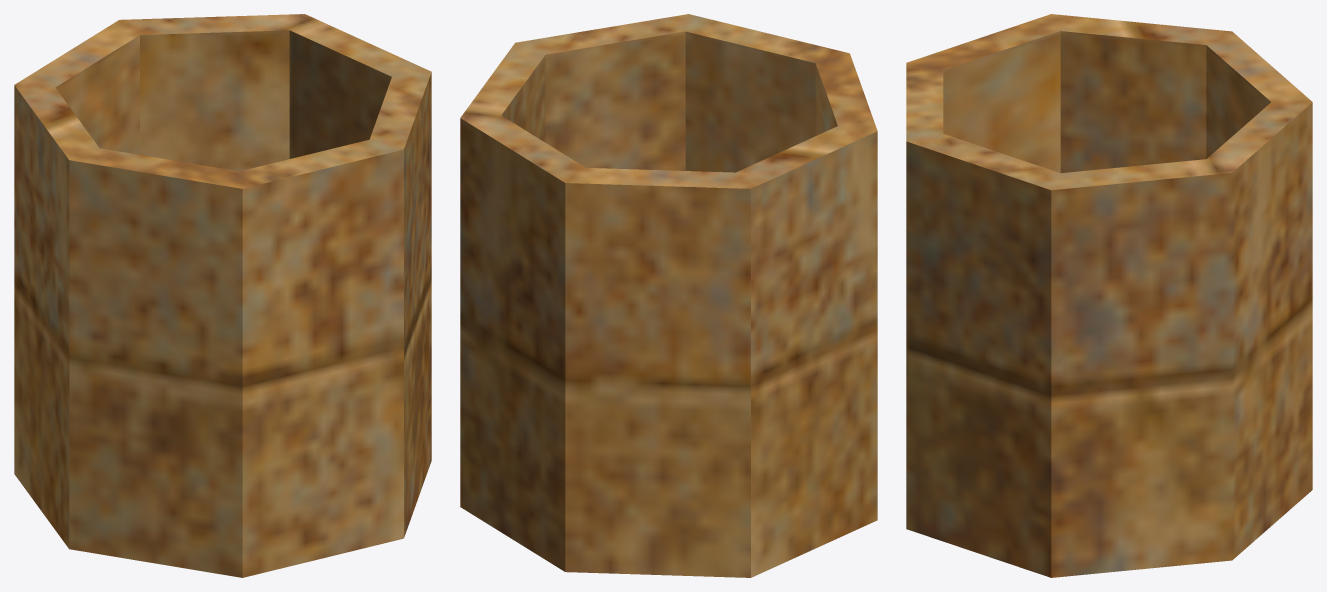
Rendered from Barrel03.fbx.
3 renders of one model, left to right at view 1: azimuth 30°, elevation 25°; view 2: azimuth 150°, elevation 25°; view 3: azimuth 270°, elevation 25°, orthographic.
Parts seen in each view (by area): view 1: Cylinder.002; view 2: Cylinder.002; view 3: Cylinder.002.
Part boxes in pixels (left/top/right/bottom): Cylinder.002: left=14, top=14, right=431, bottom=577; Cylinder.002: left=460, top=14, right=877, bottom=577; Cylinder.002: left=906, top=14, right=1312, bottom=577.
Bounding box in the file's own units: 195 × 200 × 190.
